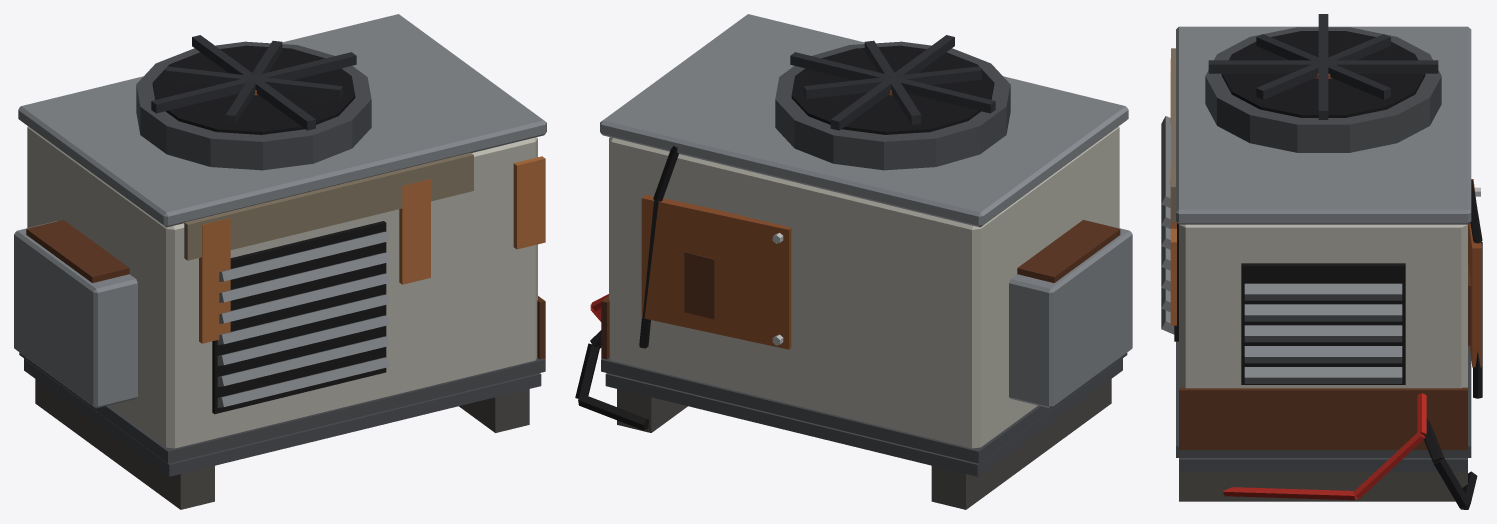
File: bld_roof_hvac.fbx
3 views of the same model, side by side, from view 1: azimuth 30°, elevation 25°; view 2: azimuth 150°, elevation 25°; view 3: azimuth 270°, elevation 25° (orthographic).
Parts seen in each view (by area): view 1: bld_roof_hvac; view 2: bld_roof_hvac; view 3: bld_roof_hvac.
Part boxes in pixels (box(x1,y1,x2,y2)): bld_roof_hvac: box(14, 14, 546, 509); bld_roof_hvac: box(575, 14, 1132, 509); bld_roof_hvac: box(1161, 14, 1482, 509).
Bounding box in the file's own units: 1.59 × 1.14 × 0.9785.
